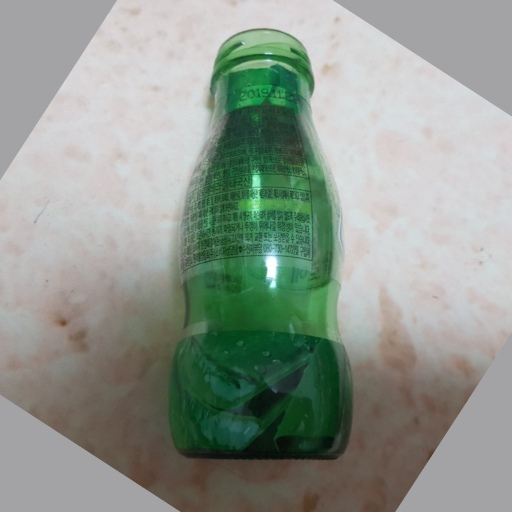Glass_4: (169, 31, 354, 461)
